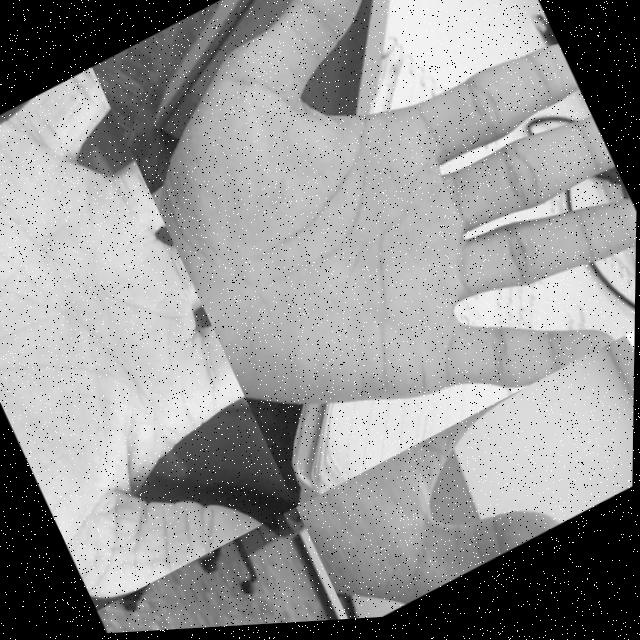hand: (86, 0, 640, 521), (0, 59, 302, 617), (296, 346, 636, 626)
